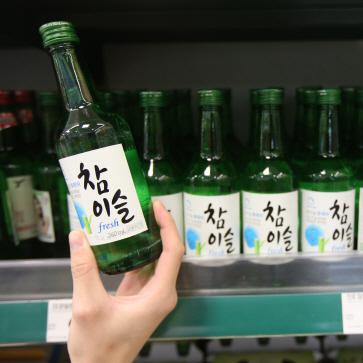soju: (1, 85, 362, 273), (34, 20, 169, 269)
